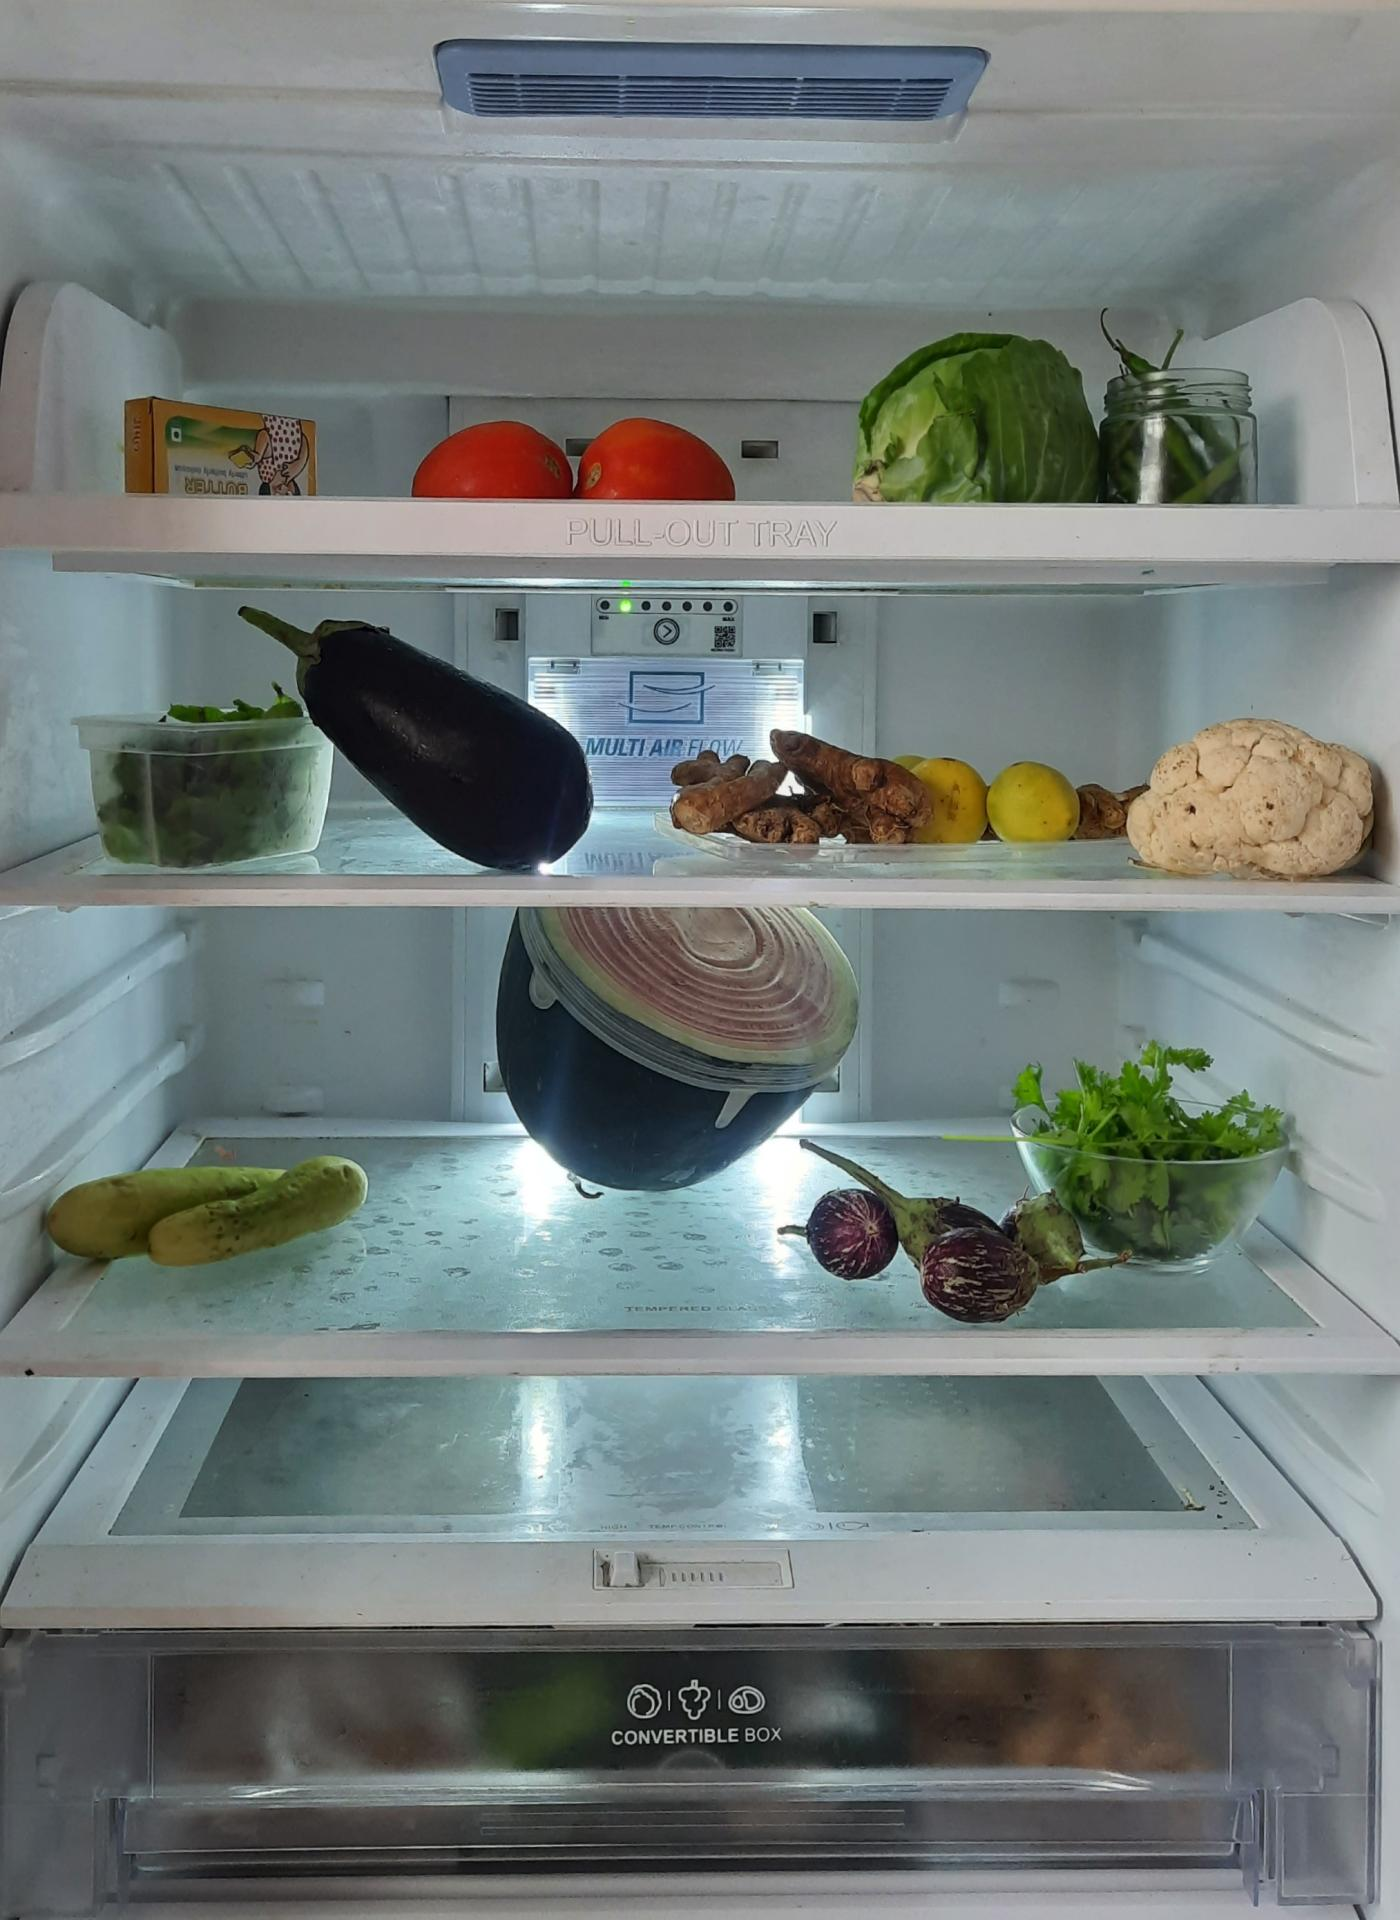basil: (91, 692, 321, 854)
brinjal: (258, 613, 592, 874), (766, 1130, 1117, 1336)
butter: (118, 388, 319, 501)
cabbage: (850, 335, 1103, 511)
cauliflower: (1121, 720, 1385, 880)
chillies: (1096, 322, 1258, 507)
coriander: (1018, 1052, 1297, 1264)
cucumber: (40, 1139, 373, 1276)
ginger: (668, 724, 938, 848)
lemon: (909, 762, 1081, 848)
tomato: (571, 413, 740, 499), (406, 416, 583, 496)
watermelon: (502, 911, 868, 1197)
